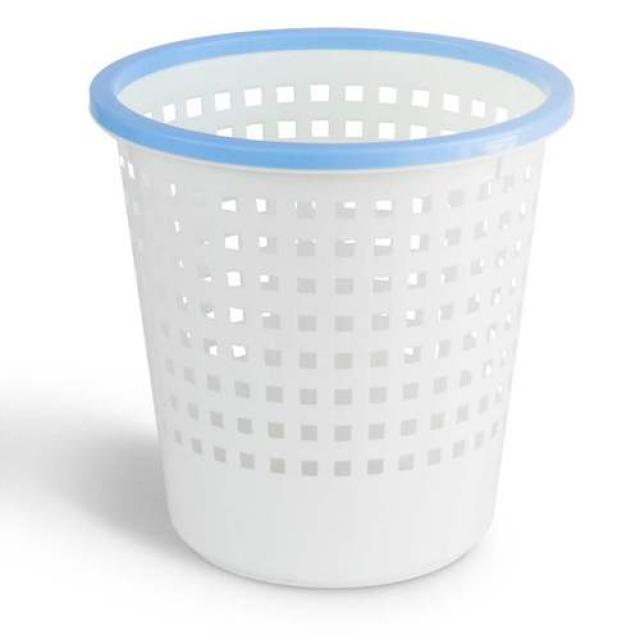dustbin: (83, 24, 581, 594)
